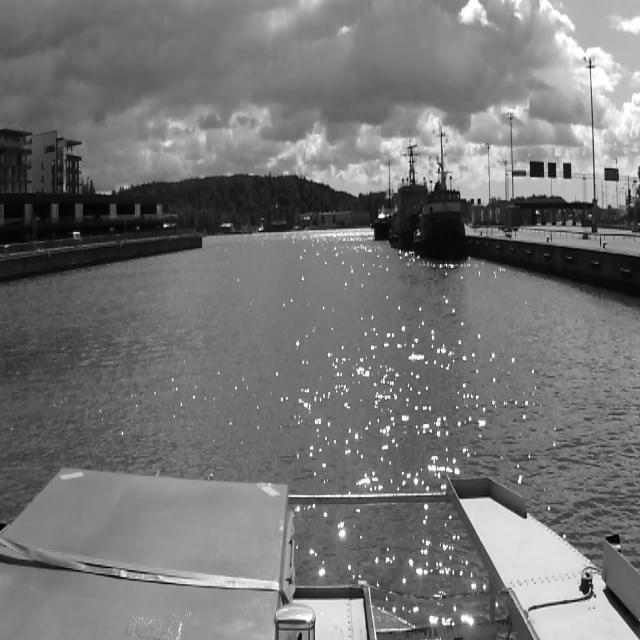ship: (372, 175, 398, 237)
